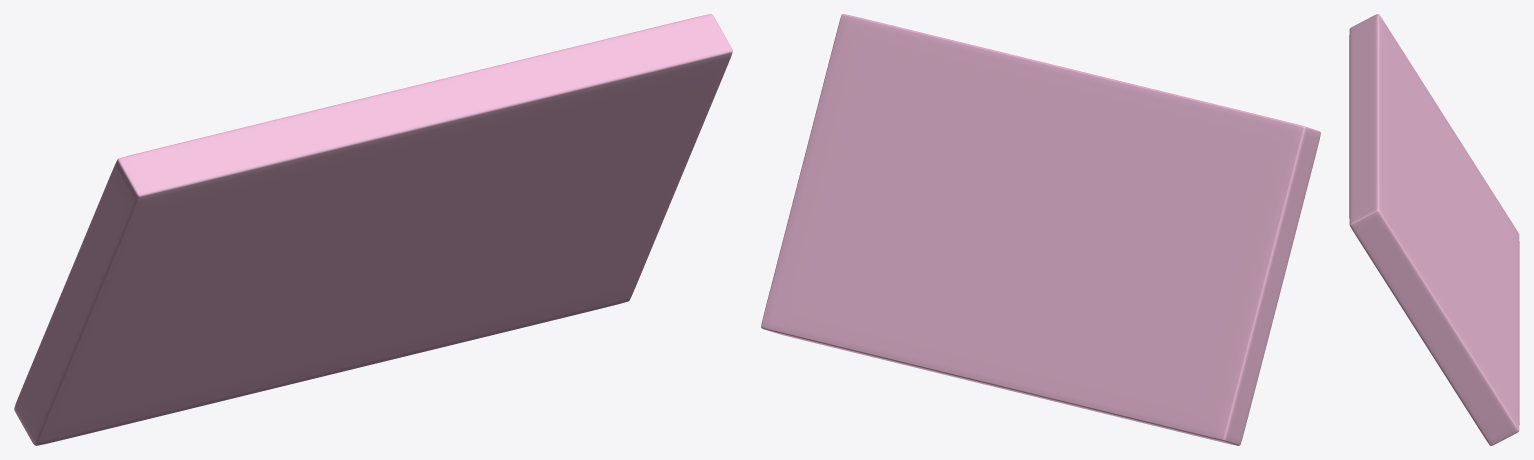
Rendered from control_panel.glb.
The picture shows the model from 3 angles, left to right: view 1: azimuth 30°, elevation 25°; view 2: azimuth 150°, elevation 25°; view 3: azimuth 270°, elevation 25°; orthographic projection. The views are drawn at different scales.
Parts seen in each view (by area): view 1: Control_Panel_geo; view 2: Control_Panel_geo; view 3: Control_Panel_geo.
Part boxes in pixels (bbox=[...]): Control_Panel_geo: bbox=[14, 14, 732, 445]; Control_Panel_geo: bbox=[761, 14, 1320, 445]; Control_Panel_geo: bbox=[1349, 14, 1519, 445].
Size of the model in its own units: 1.65 by 0.92 by 0.5992.
